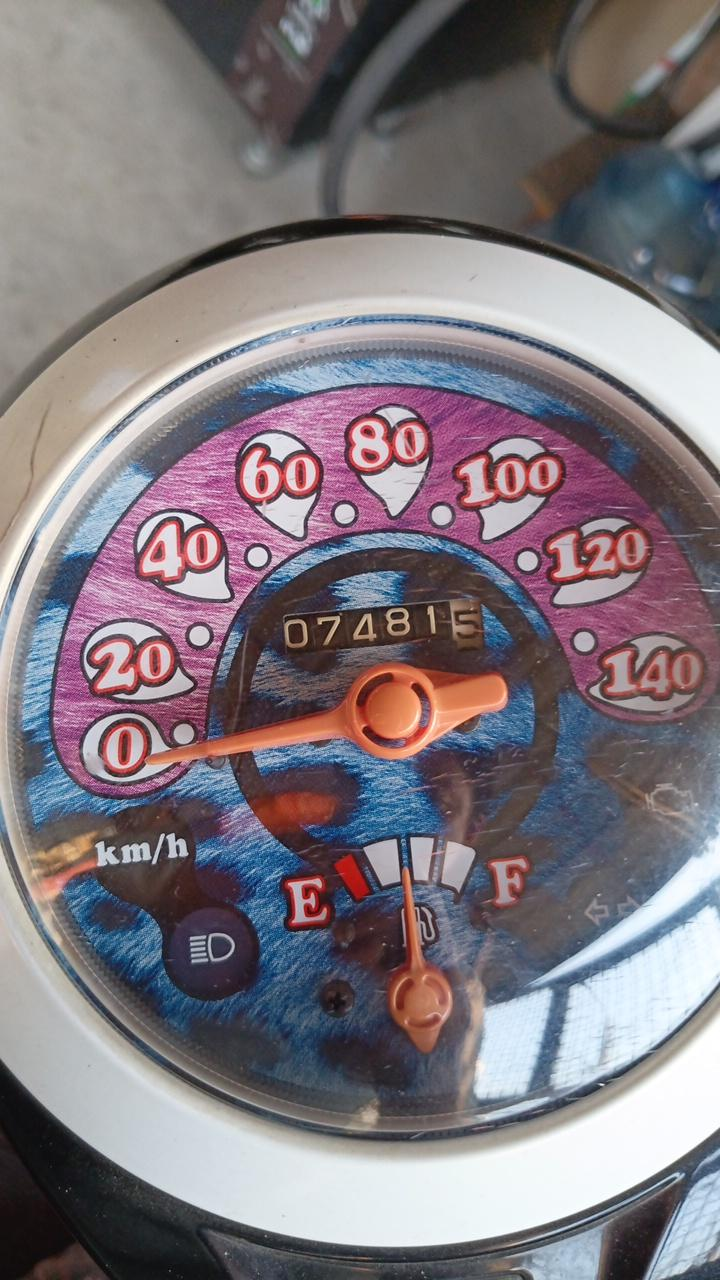0: (283, 616, 308, 649)
1: (425, 604, 438, 635)
4: (352, 610, 377, 643)
5: (453, 609, 480, 640)
7: (316, 615, 342, 647)
8: (384, 606, 411, 637)
odometer: (280, 595, 488, 659)
